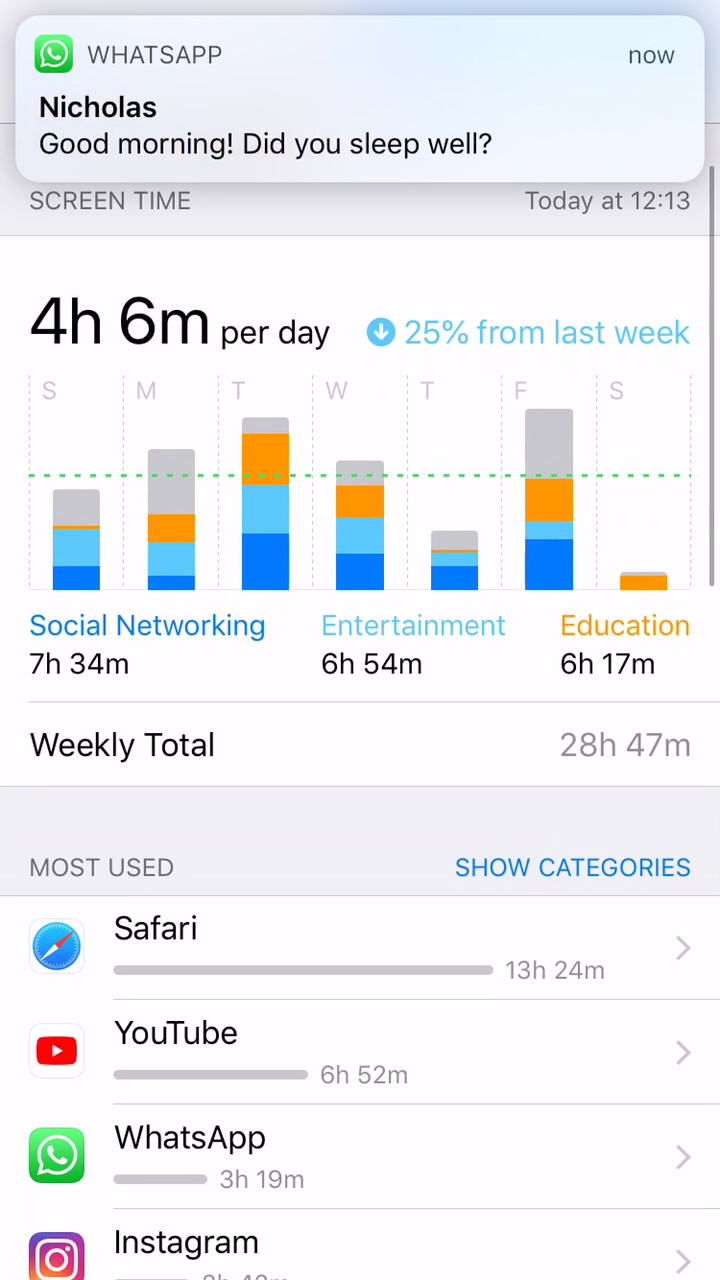use_over: (20, 613, 704, 772)
